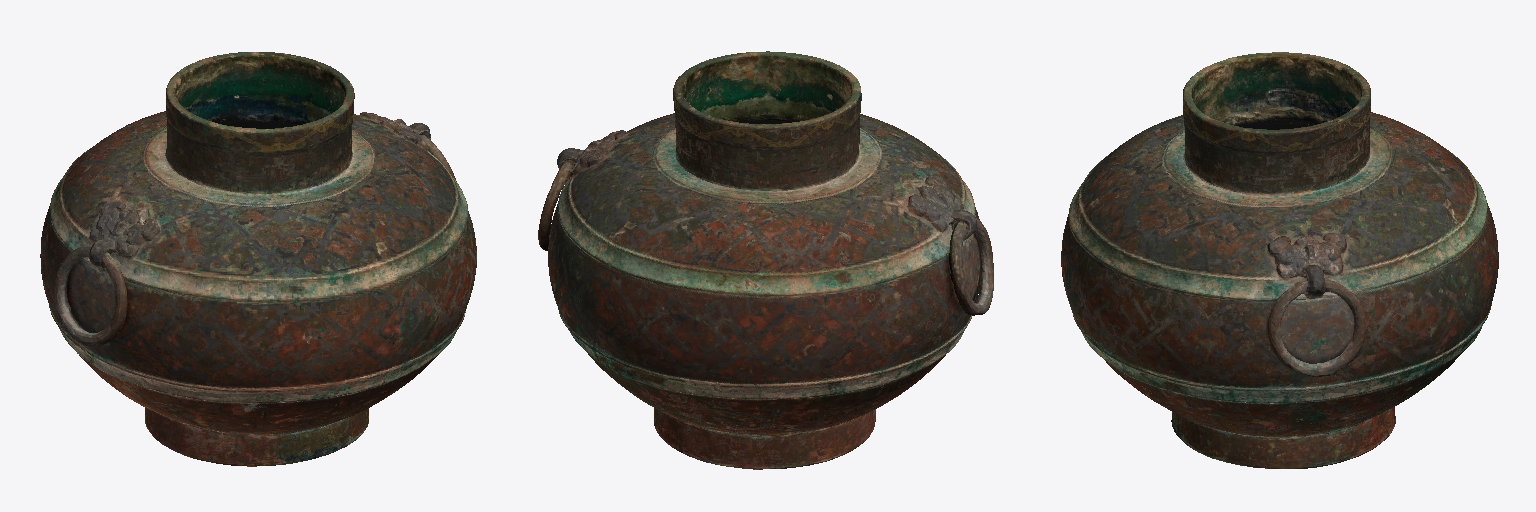
3 renders of one model, left to right at view 1: azimuth 30°, elevation 25°; view 2: azimuth 150°, elevation 25°; view 3: azimuth 270°, elevation 25°, orthographic.
Bounding box in the file's own units: 0.3147 × 0.2481 × 0.2948.
1 materials, 1 textured.